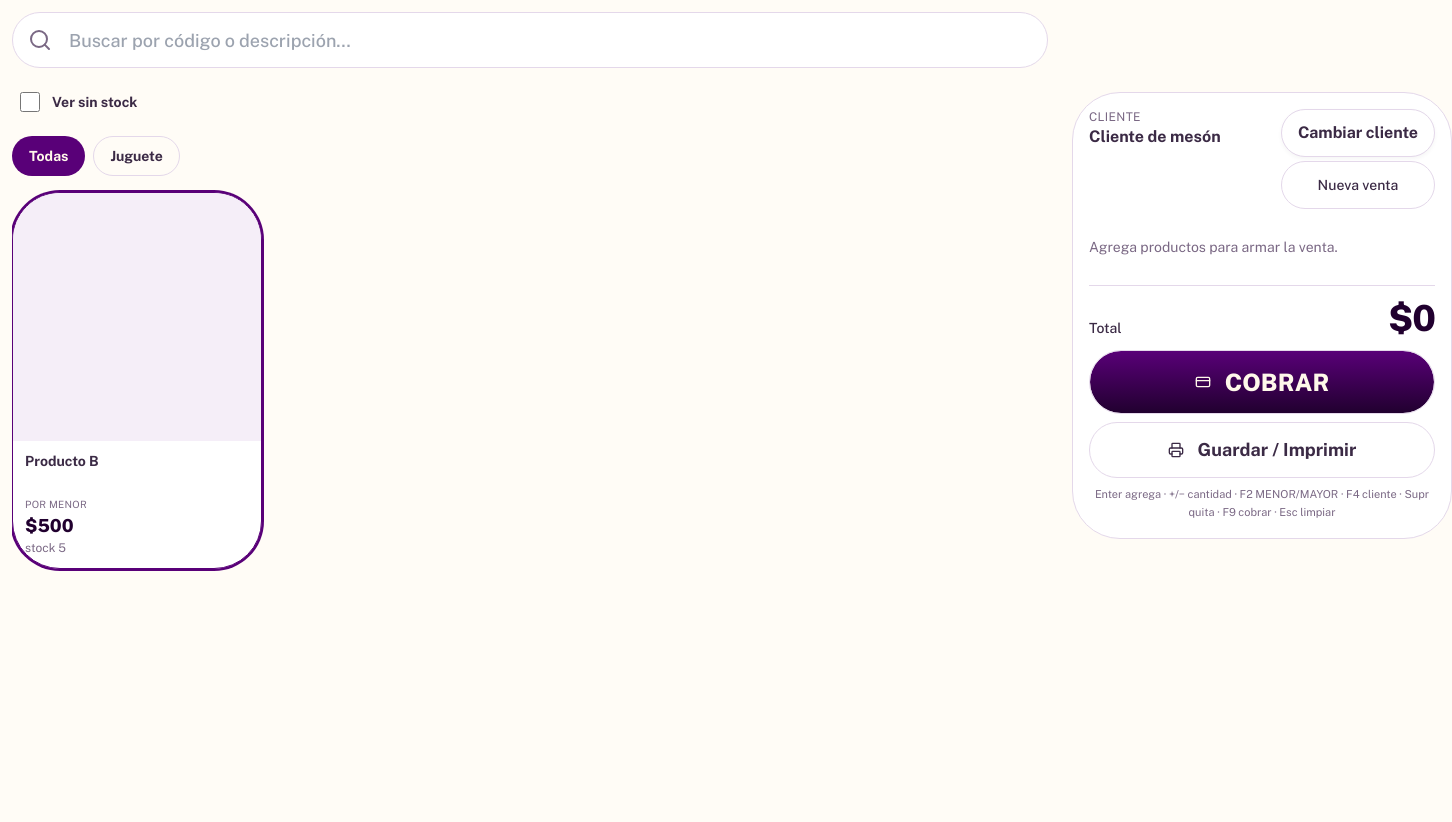
Test case: POS pos2 — flujo con mouse › MAYOR deshabilitado si el producto no tiene precio_mayor
Click the button with test id "pos-producto-GL2": (137, 380) [12,192,262,569]
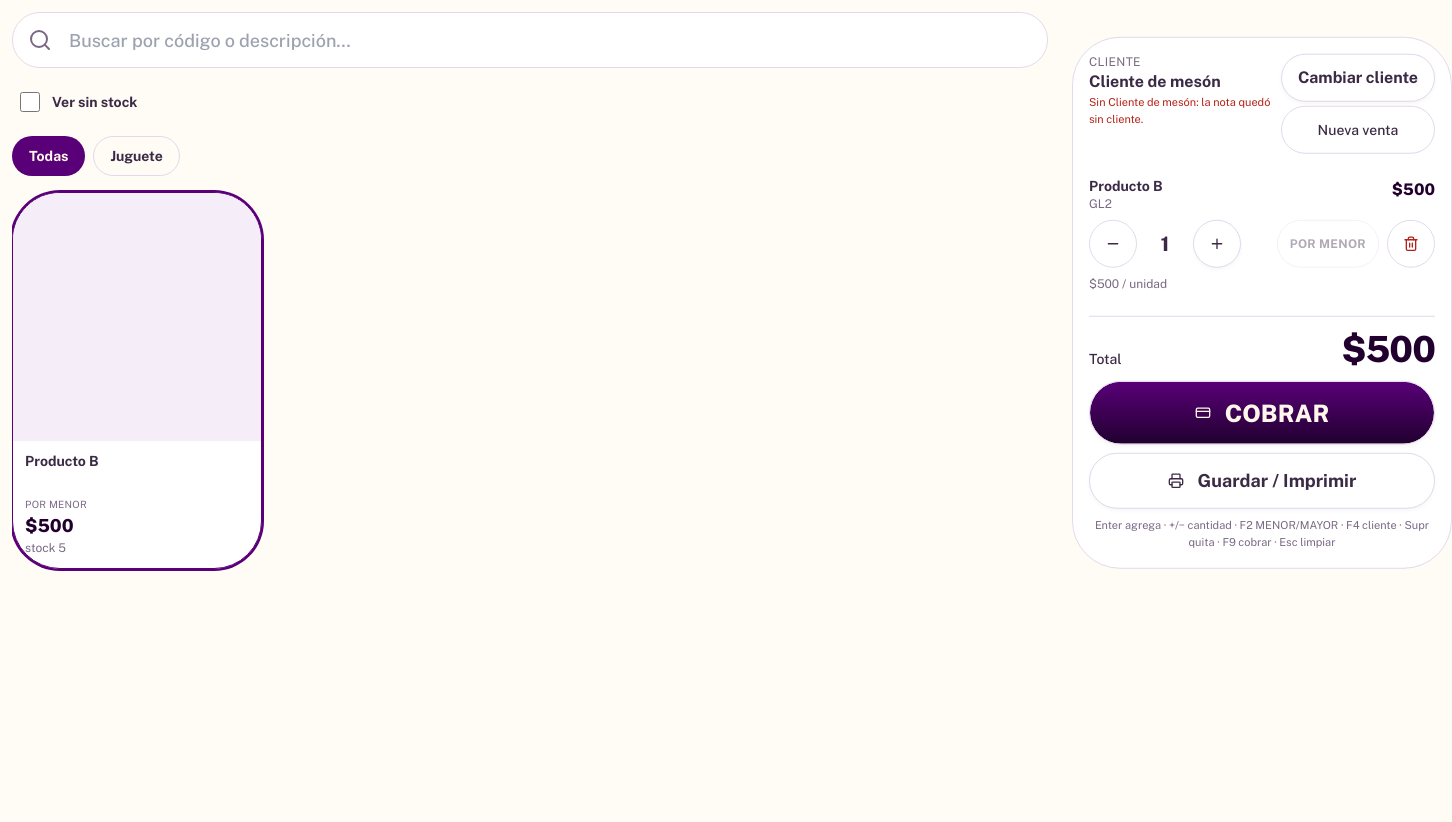
Now the list item with test id "pos-linea-GL2" is shown, box [1089,166,1435,303]
Now the button "POR MENOR" is disabled, box [1277,219,1379,267]
